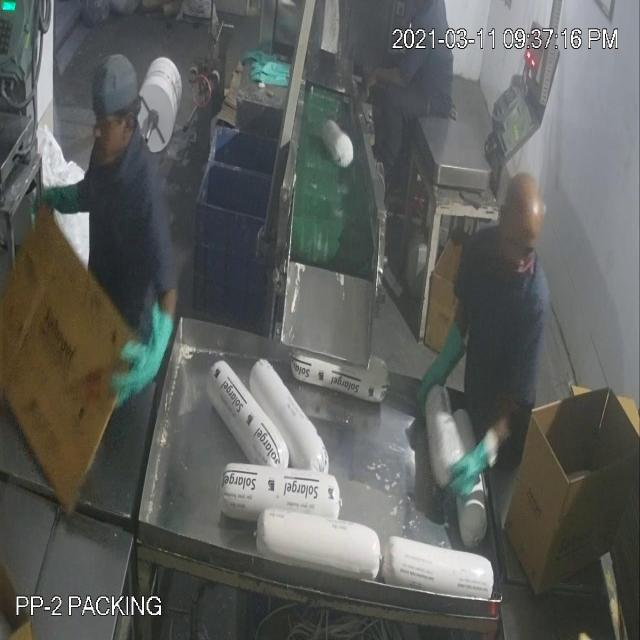gloves: (103, 298, 187, 402), (408, 326, 470, 411), (445, 423, 493, 493)
